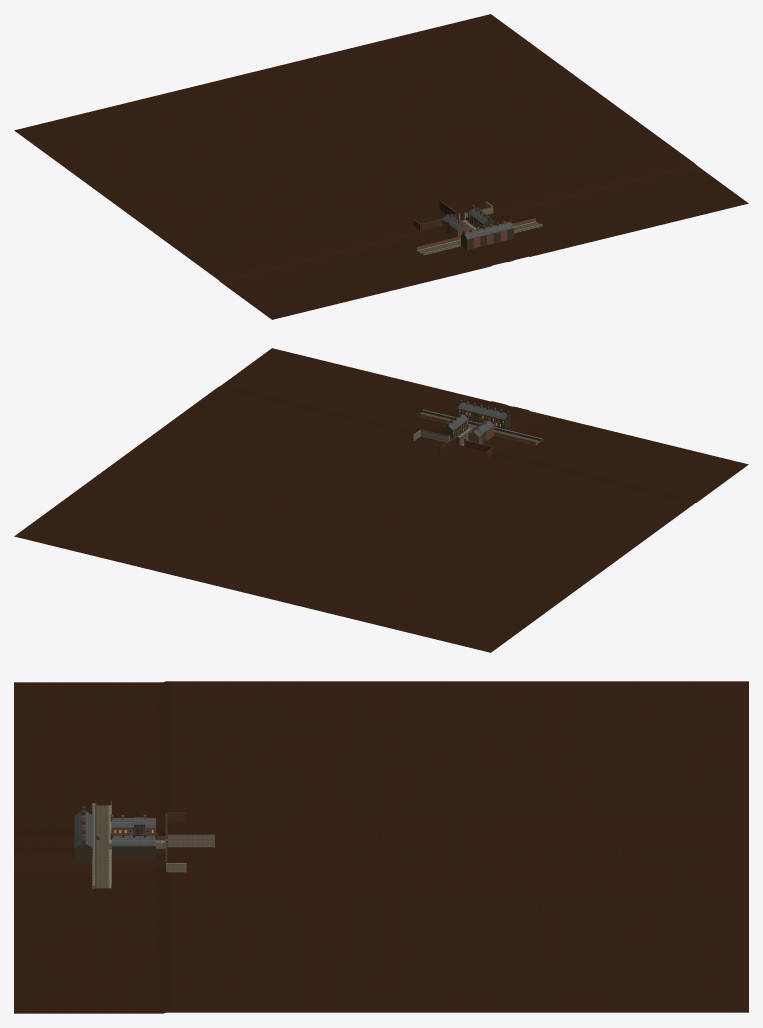
The model's file is works-set-lane.glb.
The picture shows the model from 3 angles, top to bottom: view 1: azimuth 30°, elevation 25°; view 2: azimuth 150°, elevation 25°; view 3: azimuth 270°, elevation 25°; orthographic projection. The views are drawn at different scales.
Parts seen in each view (by area): view 1: ground, cross-street; view 2: ground, cross-street, works-wall; view 3: ground, cross-street, dividing-wall.
Part boxes in pixels (x1,y1,x2,y2): ground: (14,14,748,319); cross-street: (416,218,542,255); ground: (14,348,748,652); cross-street: (416,409,542,445); works-wall: (413,429,493,458); ground: (14,681,748,1013); cross-street: (92,801,111,888); dividing-wall: (165,834,214,847).
Size of what is drawn, in the model's own units: 320 by 12.4 by 300.
Materials: 49 (47 with a texture image).
